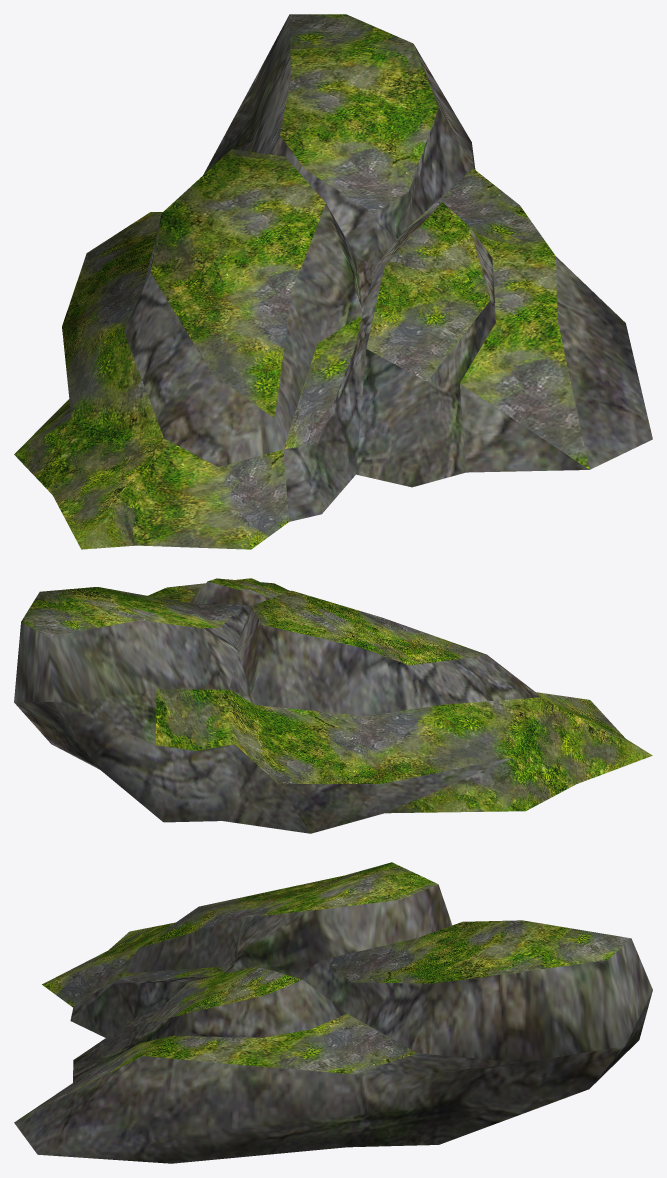
Rendered from S_Rock_Green006.FBX.
3 renders of one model, top to bottom at view 1: azimuth 30°, elevation 25°; view 2: azimuth 150°, elevation 25°; view 3: azimuth 270°, elevation 25°, orthographic. The views are drawn at different scales.
Parts seen in each view (by area): view 1: S_Rock_Green006; view 2: S_Rock_Green006; view 3: S_Rock_Green006.
Part boxes in pixels (x1,y1,x2,y2): S_Rock_Green006: [14, 14, 652, 549]; S_Rock_Green006: [14, 578, 652, 833]; S_Rock_Green006: [14, 862, 652, 1163].
Bounding box in the file's own units: 750 × 768 × 280.
